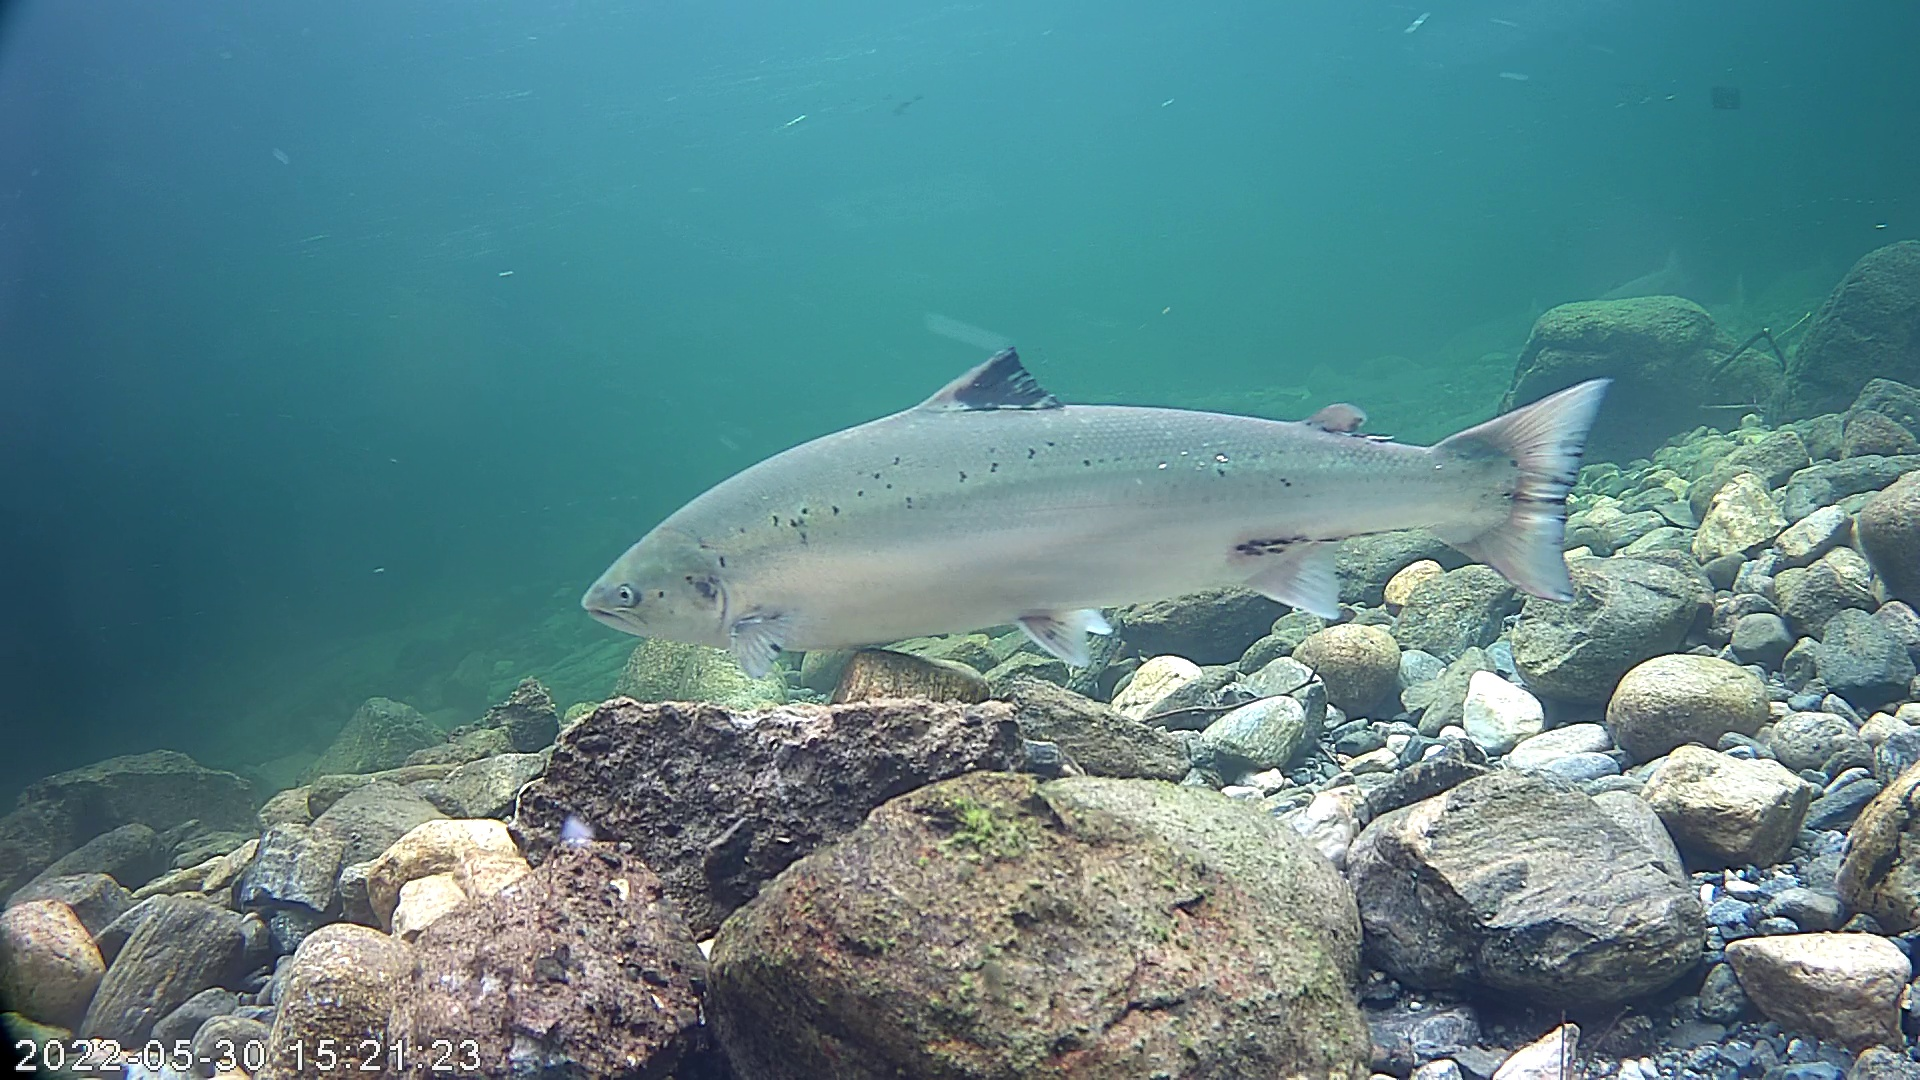salmon: (574, 339, 1619, 686)
